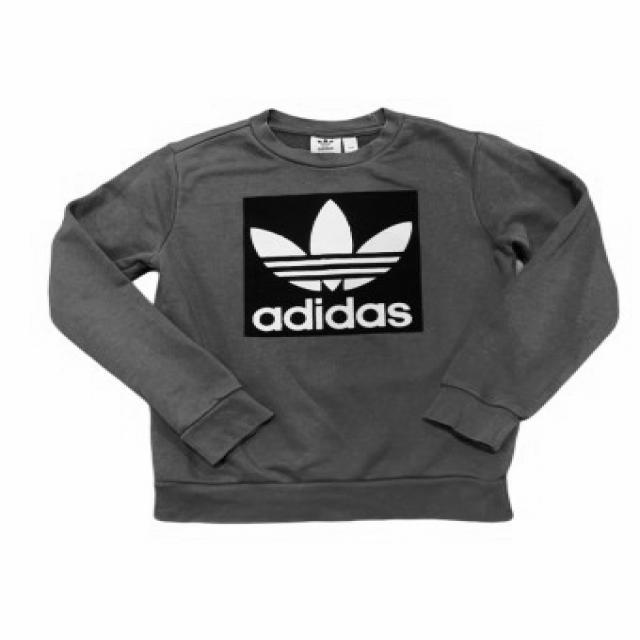Adidas: (243, 192, 424, 297)
